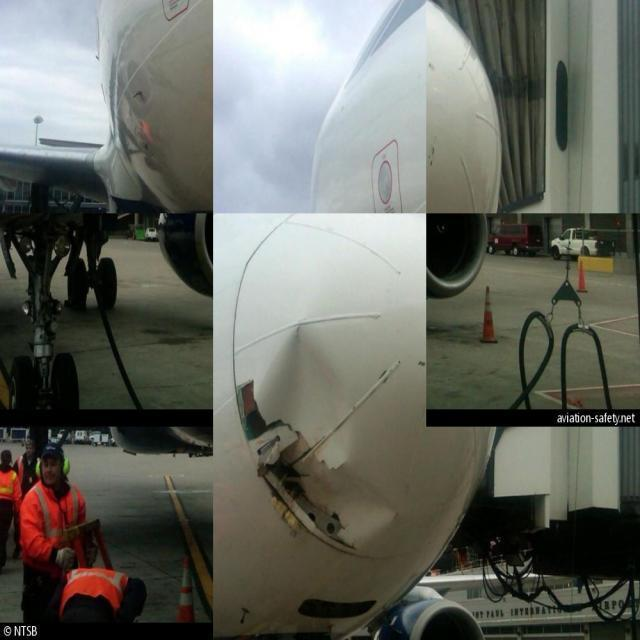dent: (255, 326, 358, 462), (325, 465, 399, 549)
